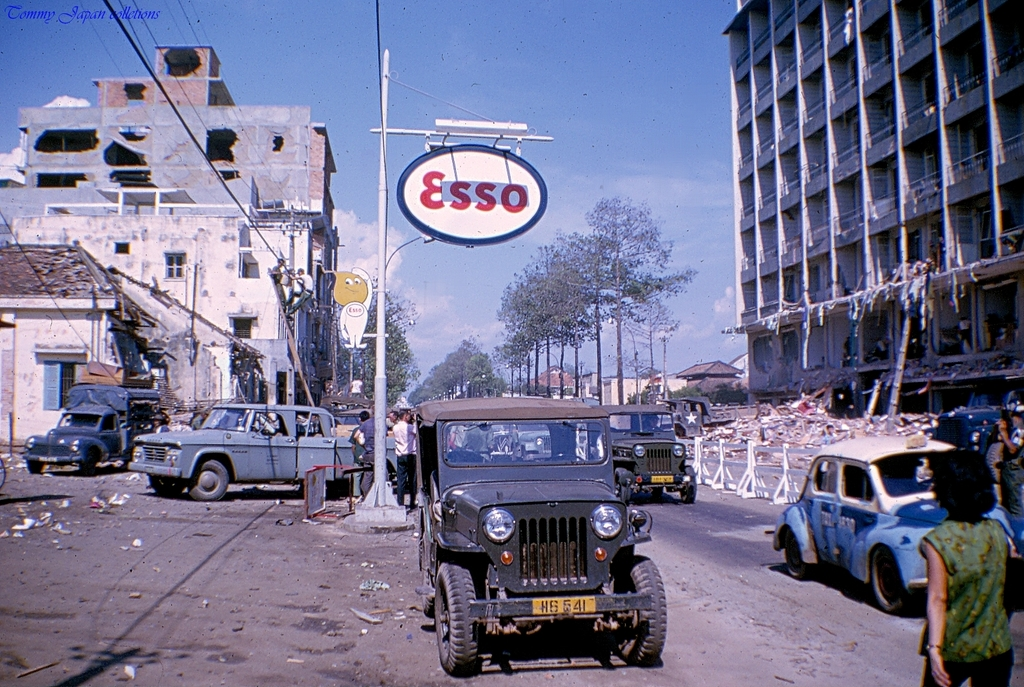Car: (402, 391, 679, 687), (762, 431, 1018, 619), (126, 397, 390, 501)
